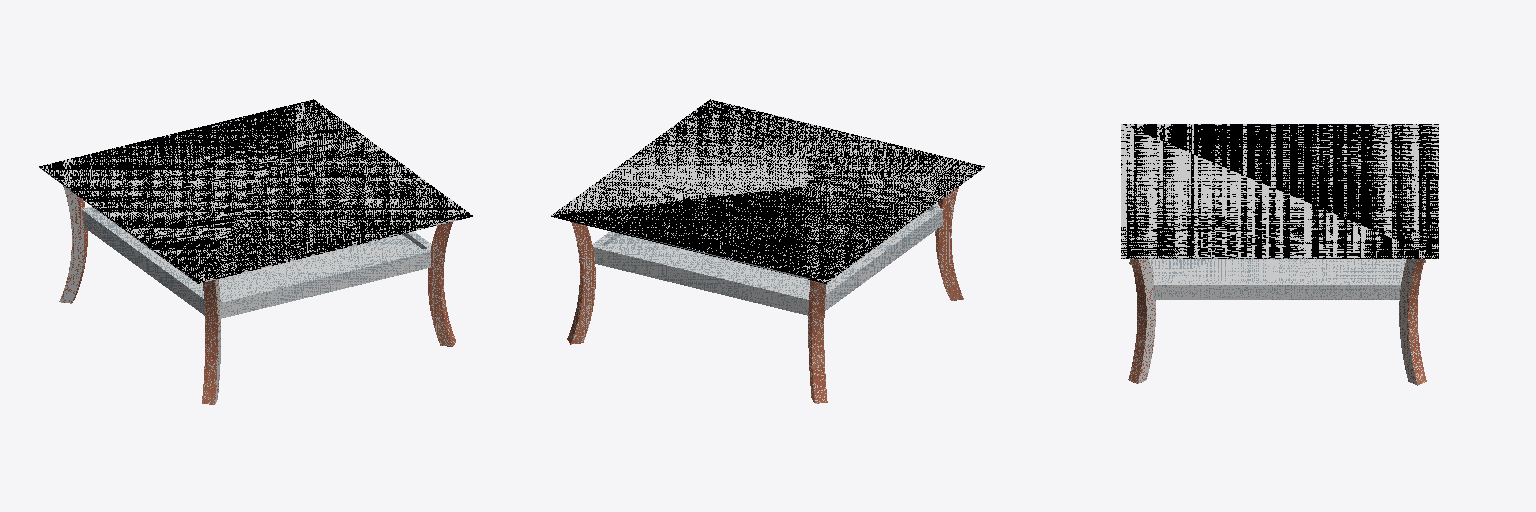
3 renders of one model, left to right at view 1: azimuth 30°, elevation 25°; view 2: azimuth 150°, elevation 25°; view 3: azimuth 270°, elevation 25°, orthographic.
Parts seen in each view (by area): view 1: Mesh1 Model, Mesh6 Model, Mesh4 Model, Mesh5 Model, Mesh2 Model; view 2: Mesh1 Model, Mesh6 Model, Mesh2 Model, Mesh3 Model, Mesh4 Model; view 3: Mesh1 Model, Mesh6 Model, Mesh3 Model, Mesh5 Model.
Part boxes in pixels (x1,y1,x2,y2): Mesh1 Model: (39,99,472,283); Mesh6 Model: (83,207,431,318); Mesh4 Model: (202,279,220,404); Mesh5 Model: (428,222,455,346); Mesh2 Model: (59,186,87,303); Mesh1 Model: (551,99,984,283); Mesh6 Model: (592,203,942,315); Mesh2 Model: (808,280,827,403); Mesh3 Model: (567,222,595,344); Mesh4 Model: (935,187,963,300); Mesh1 Model: (1121,124,1438,258); Mesh6 Model: (1149,259,1406,299); Mesh3 Model: (1399,259,1426,385); Mesh5 Model: (1128,259,1155,383).
Bounding box in the file's own units: 4.75 × 2.15 × 4.75.
Materials: 5 (2 with a texture image).